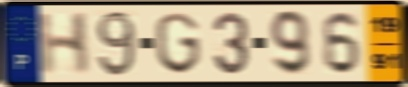3: (210, 10, 251, 77)
6: (320, 9, 363, 77)
9: (266, 9, 314, 78), (93, 9, 139, 79)
G: (153, 11, 204, 77)
H: (36, 10, 92, 77)
